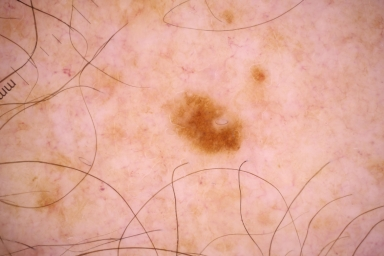melanoma: (173, 93, 243, 148)
